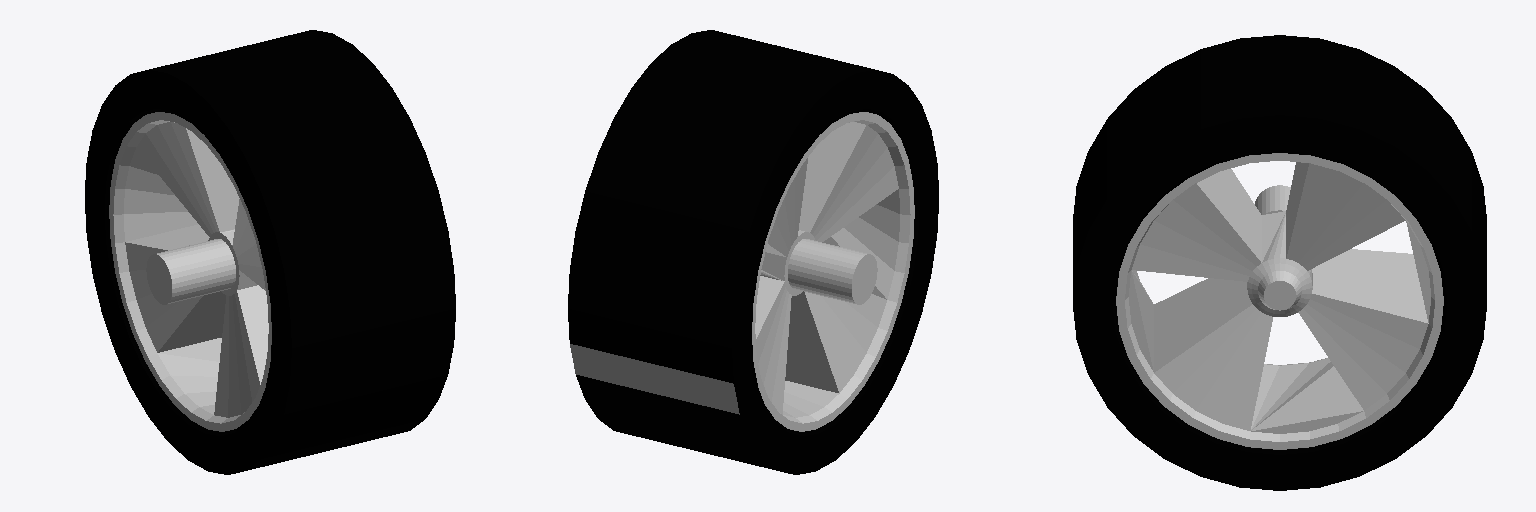
The model's file is wheel.obj.
3 views of the same model, side by side, from view 1: azimuth 30°, elevation 25°; view 2: azimuth 150°, elevation 25°; view 3: azimuth 270°, elevation 25° (orthographic).
Parts seen in each view (by area): view 1: wheel_3; view 2: wheel_3; view 3: wheel_3.
Part boxes in pixels (x1,y1,x2,y2): wheel_3: (85,30,455,474); wheel_3: (568,30,938,474); wheel_3: (1073,35,1486,490).
Size of the model in its own units: 0.6607 by 1.23 by 1.23.